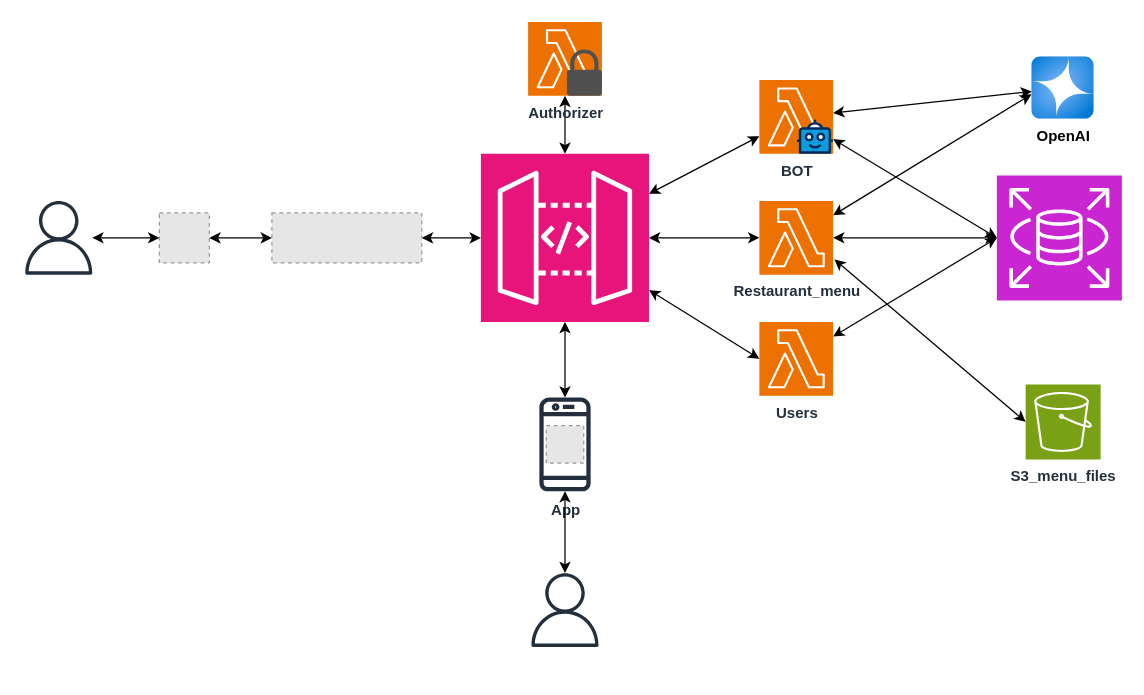
Some shapes in this 1144 by 695 pixel diagram are drawn without their labels. Grey dashed boxes stand in for pictures. The shapes that lost their labels are listed below. From the top down, each one's centre as x and y in pixels, then its label:
At [58,237]: "Client".
At [564,237]: "Api Gateway".
At [1059,237]: "PostgreSQL".
At [564,609]: "User".
